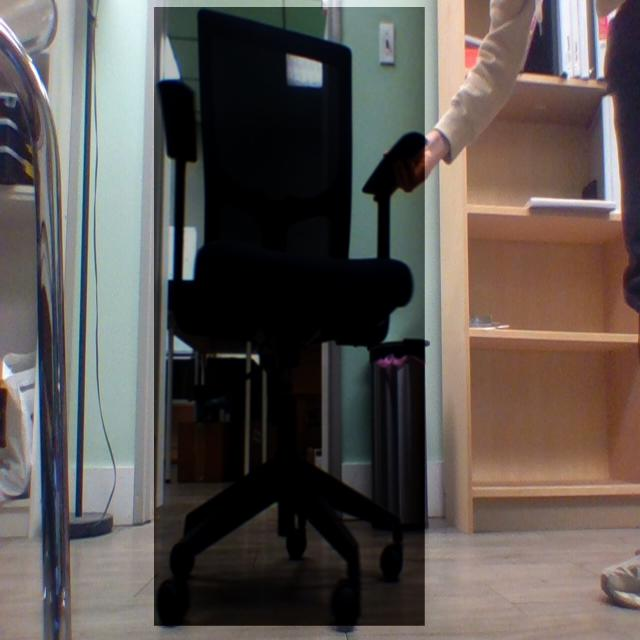black-chair: (154, 7, 426, 627)
